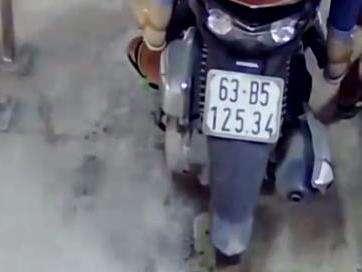num_plate: (202, 69, 281, 144)
